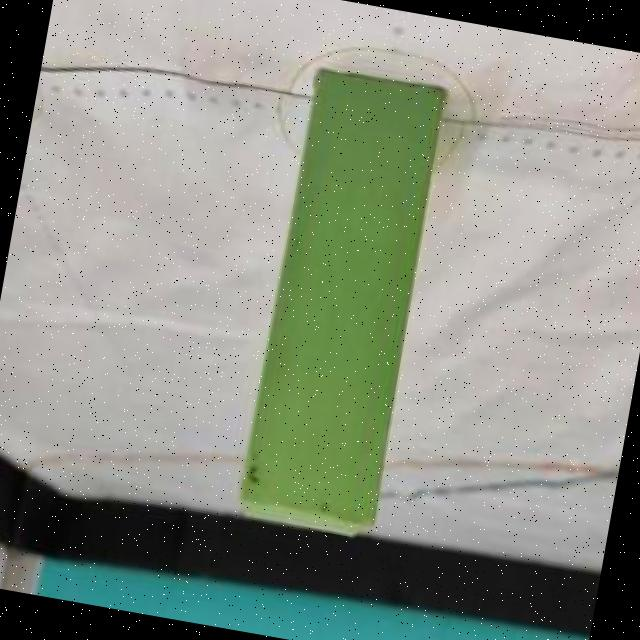greenbox: (234, 62, 446, 536)
